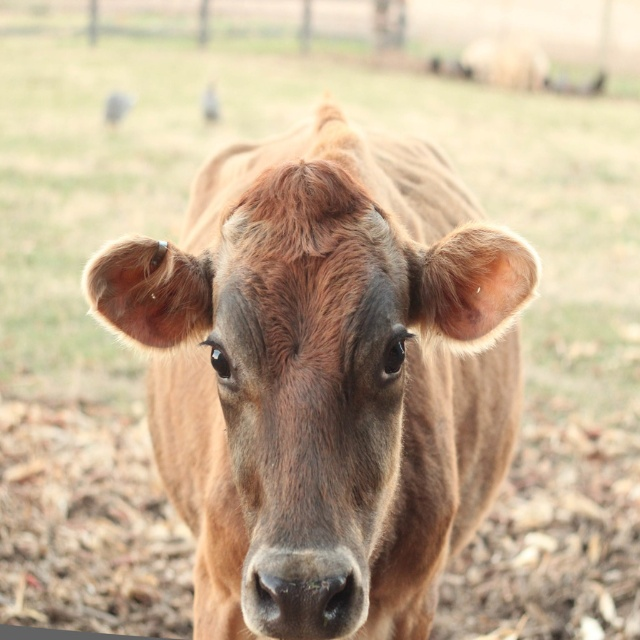Cattle: (80, 97, 542, 640)
